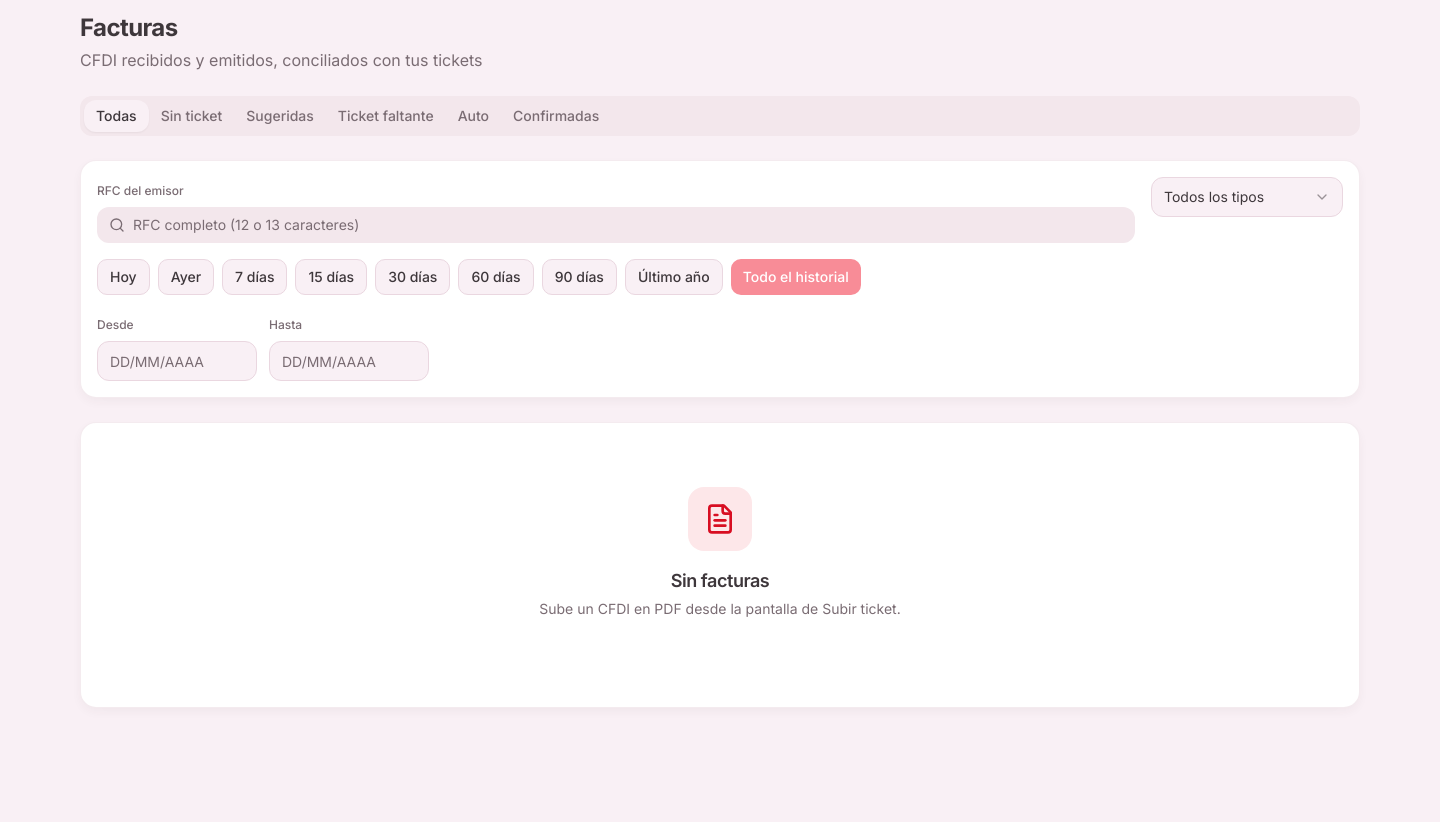
Test case: InvoicesPage filters › distinguishes an empty inventory from filtered zero results
The width and height of the screenshot is (1440, 822).
Expected: the heading "Sin facturas" is shown, [671,567,769,595]
Press the mouse on the tab "Sin ticket" at [192, 116], box [149,100,234,132]
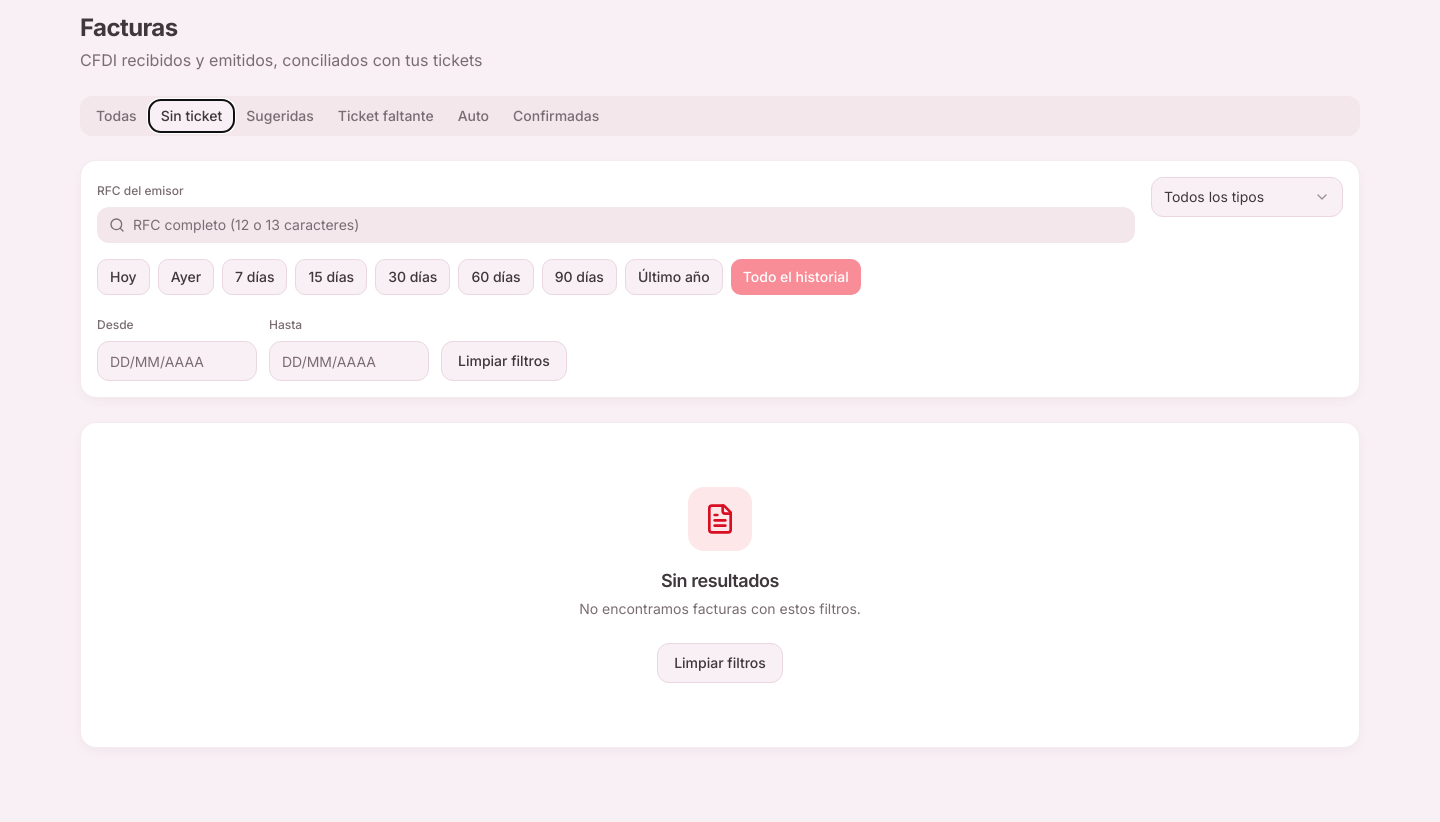
Result: the heading "Sin resultados" is shown at [661,567,779,595]
Result: the text "No encontramos facturas con estos filtros." is shown at [579,599,861,619]
